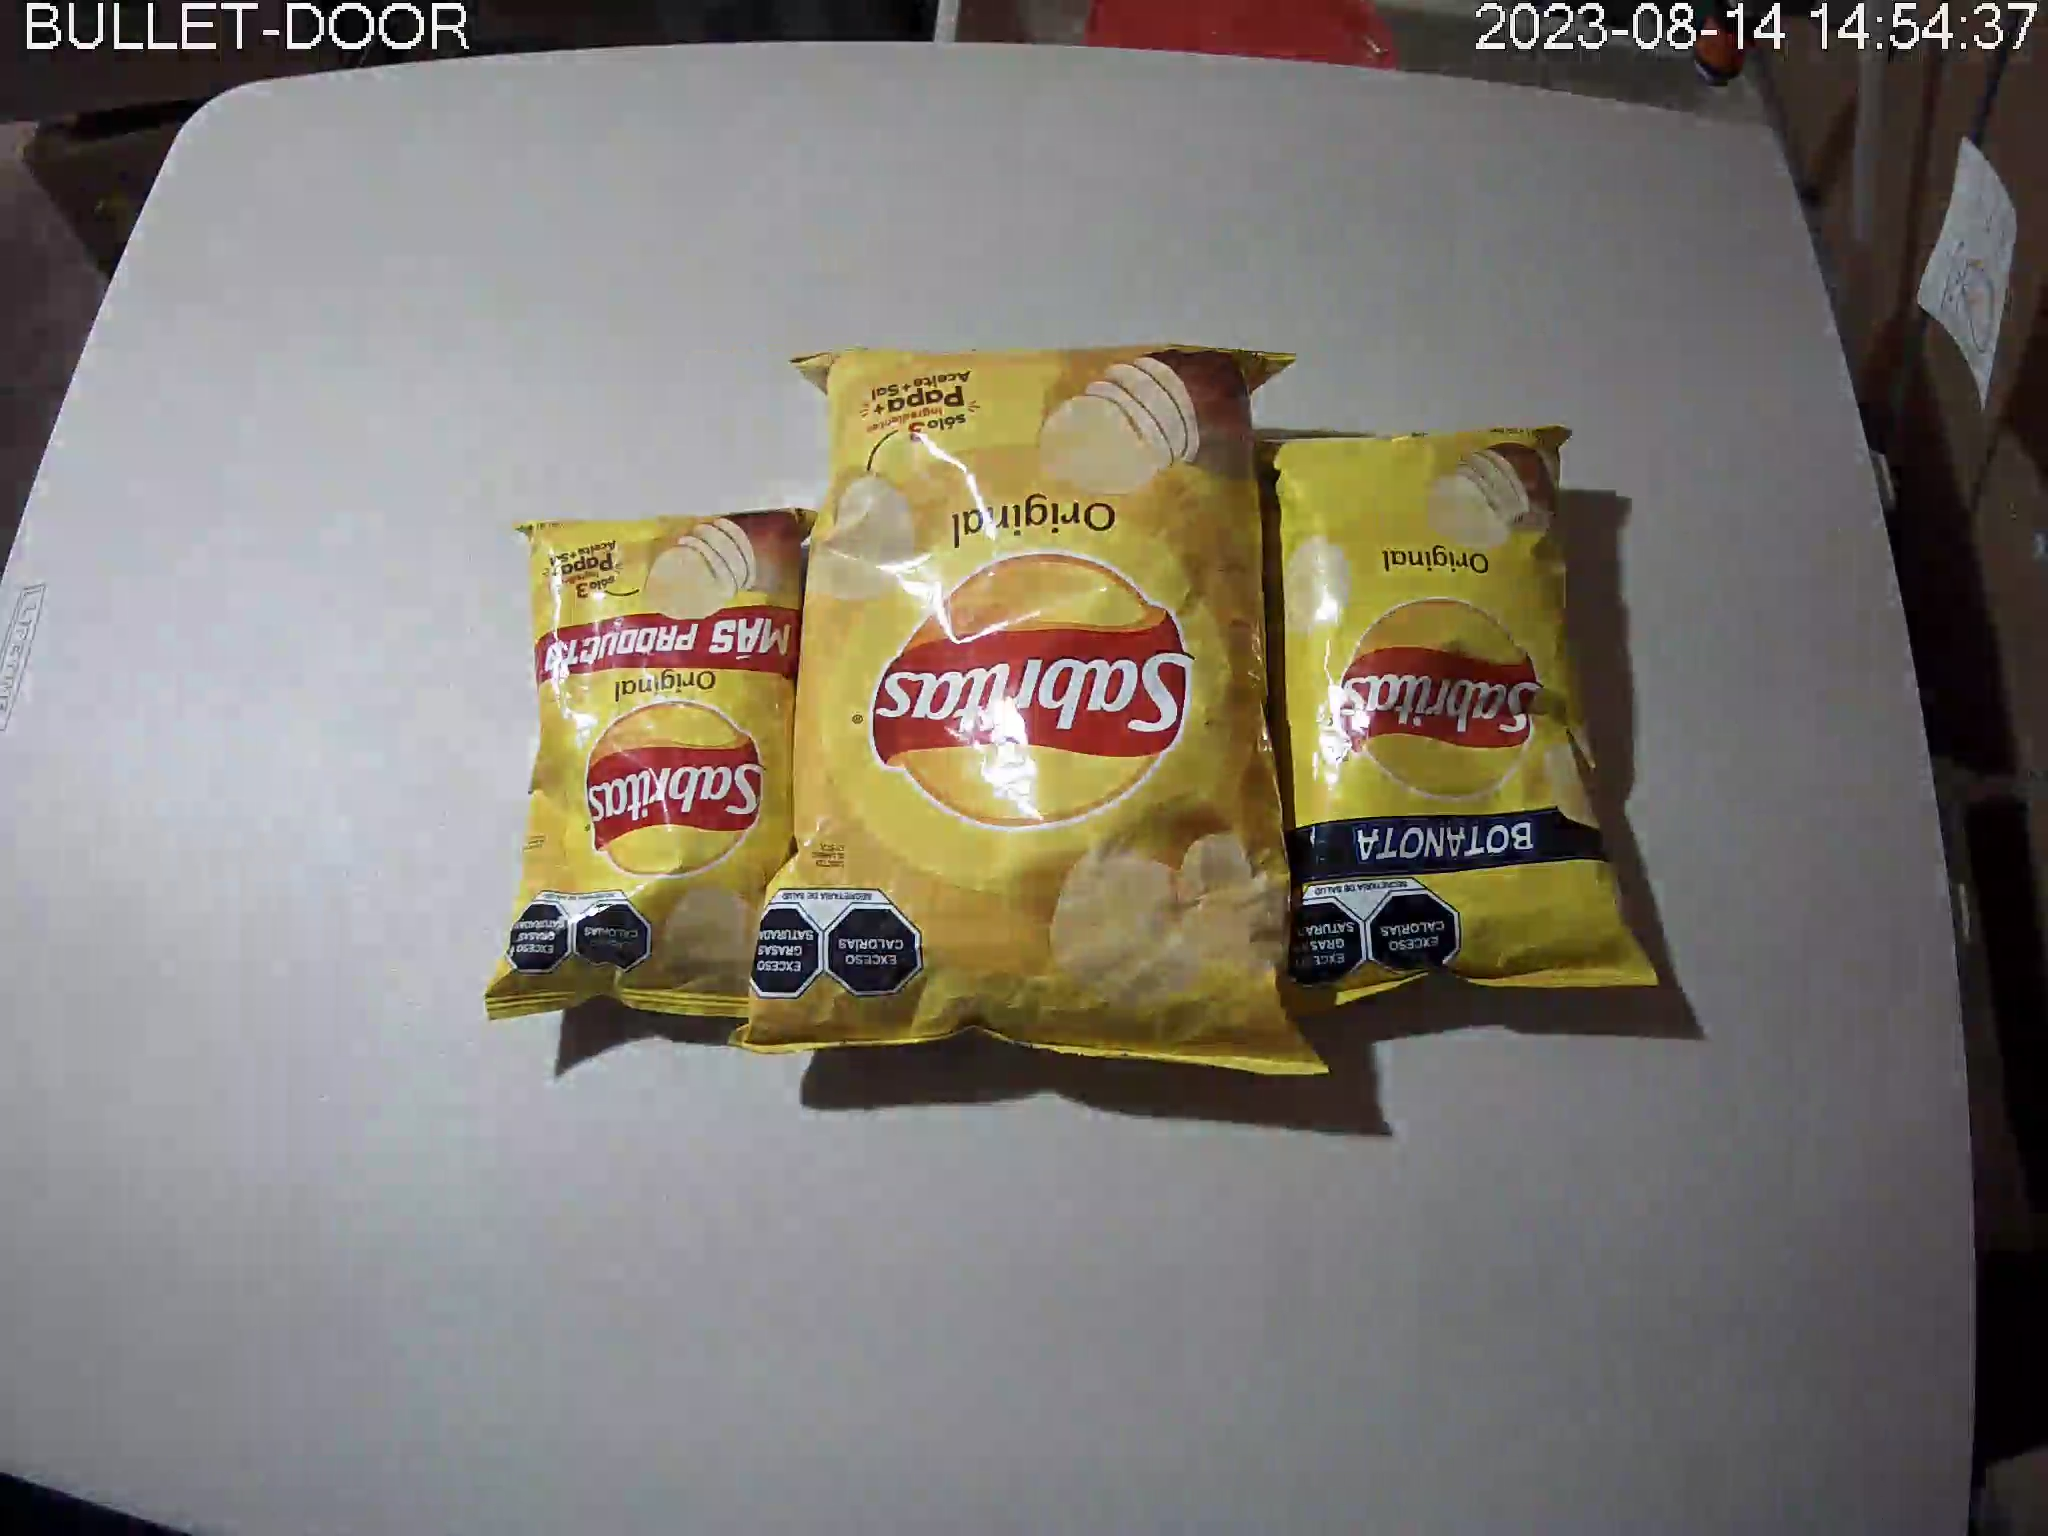Sabritas_160_F: (726, 345, 1329, 1079)
Sabritas_45_F: (484, 508, 827, 1021)
Sabritas_64_F: (1229, 424, 1663, 1021)
